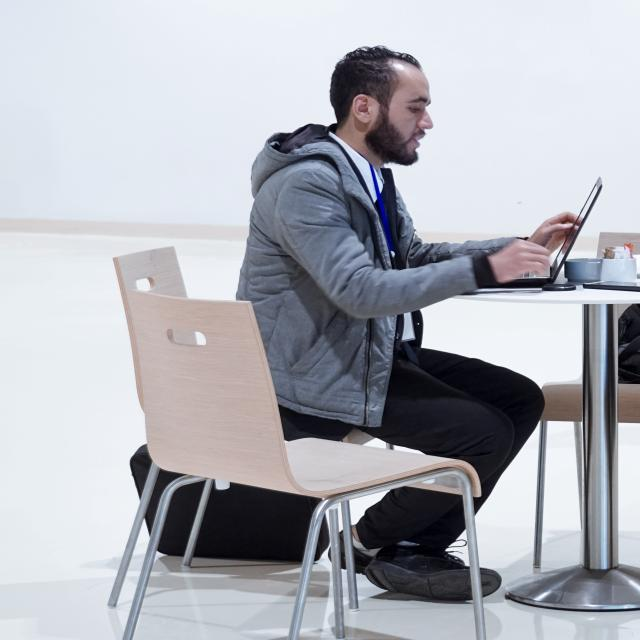nonfall: (253, 6, 586, 609)
